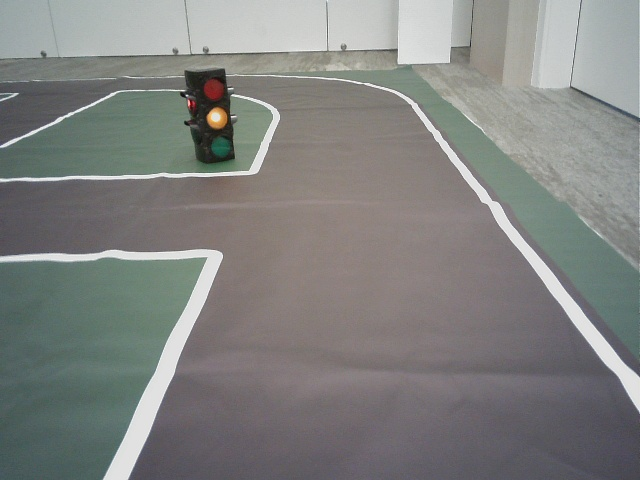yellow: (196, 75, 230, 158)
